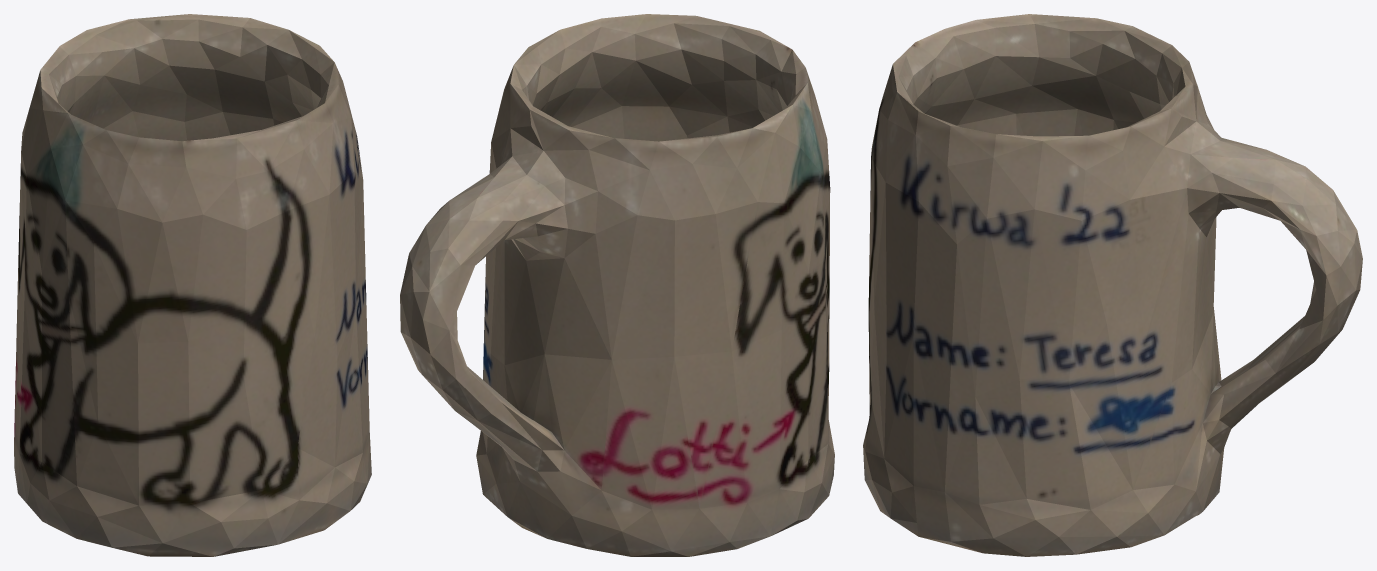
File: 44633EA0-9CBD-D74C-B96C-1A5EFD30CE3C_512.glb
3 renders of one model, left to right at view 1: azimuth 30°, elevation 25°; view 2: azimuth 150°, elevation 25°; view 3: azimuth 270°, elevation 25°, orthographic.
Visible parts, largest first — view 1: Krug Hund_0.8k_0.5k; view 2: Krug Hund_0.8k_0.5k; view 3: Krug Hund_0.8k_0.5k.
Part boxes in pixels (x1=…): Krug Hund_0.8k_0.5k: x1=14, y1=14, x2=371, y2=556; Krug Hund_0.8k_0.5k: x1=400, y1=14, x2=834, y2=556; Krug Hund_0.8k_0.5k: x1=863, y1=14, x2=1362, y2=556.
Bounding box in the file's own units: 0.0993 × 0.1256 × 0.1378.
Materials: 1 (1 with a texture image).
